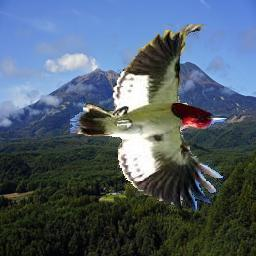Woodpecker: (71, 25, 228, 212)
